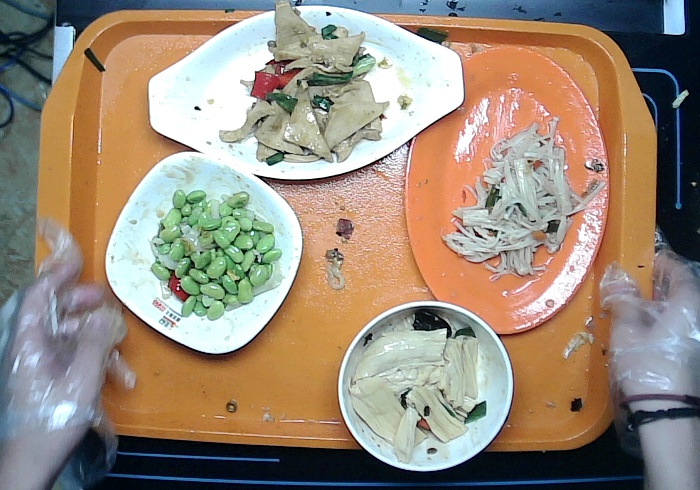NLDX-Bai_Se_Xiao_Fang_Die: (103, 150, 303, 356)
NLDX-Fan_Wan: (337, 300, 513, 472)
NLDX-Ju_Se_Pan: (403, 42, 611, 335)
NLDX-Yu_Pan: (146, 4, 465, 181)
